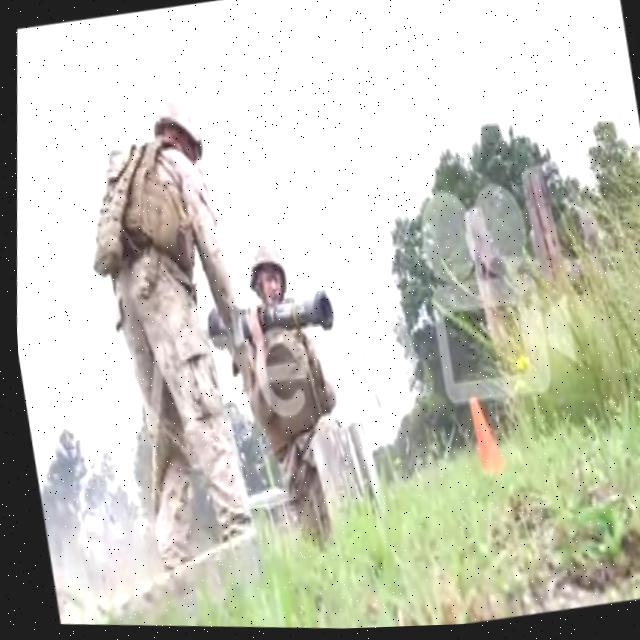rocket: (196, 282, 335, 353)
